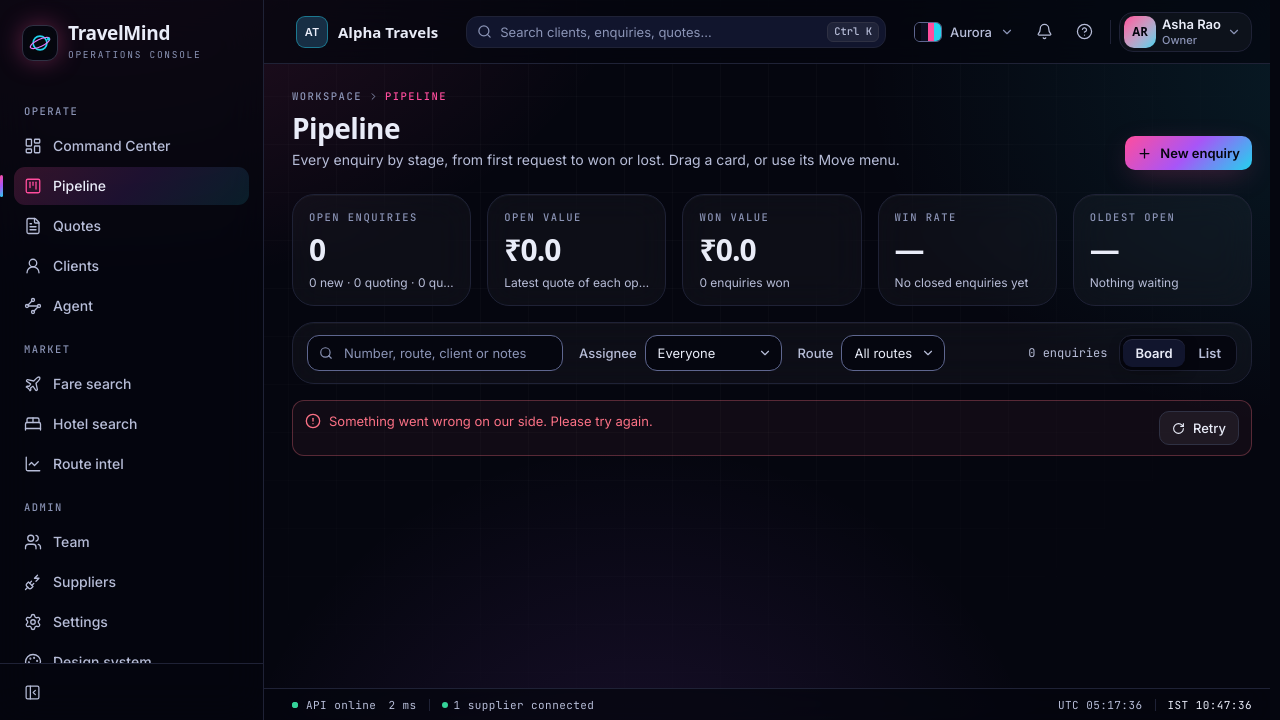
Test: a failing board says what went wrong and retries
Expected: the text "Something went wrong on our side. Please try again." is shown, [329,411,653,431]
Click the button "Retry" at (1199, 428), box [1159,411,1239,445]
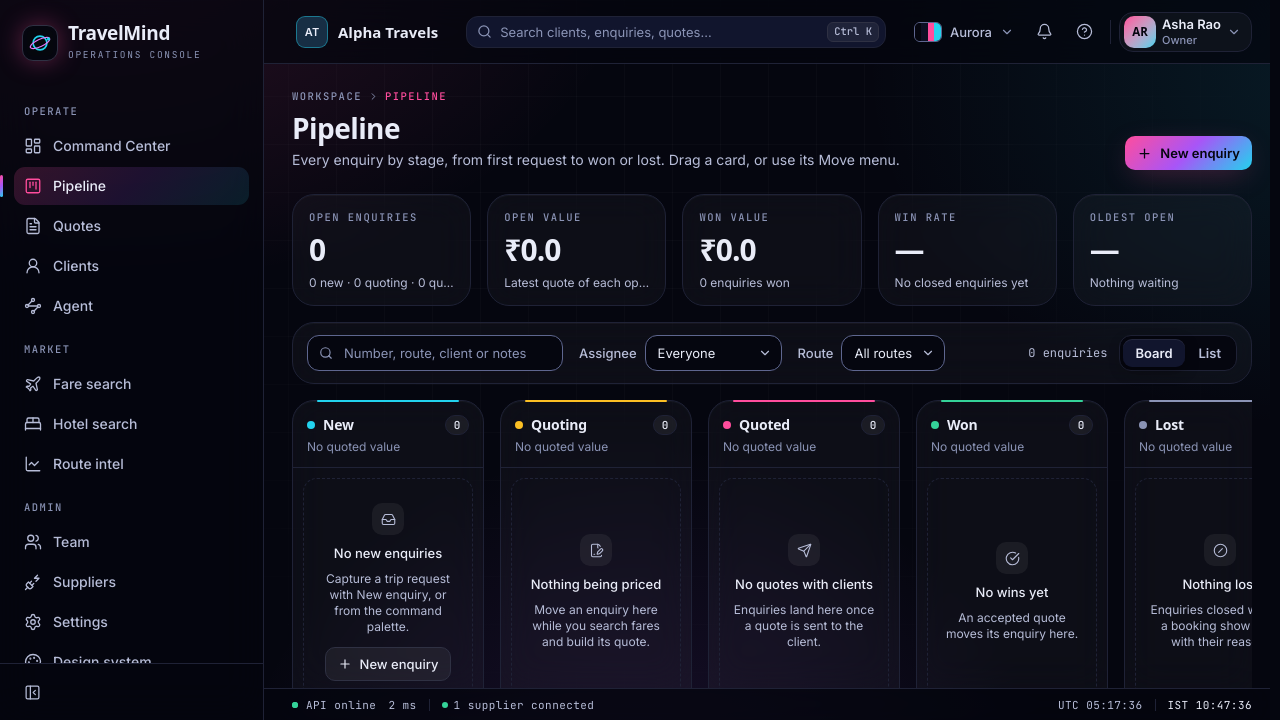
Expected: the text "No new enquiries" is shown, [334,543,442,563]
